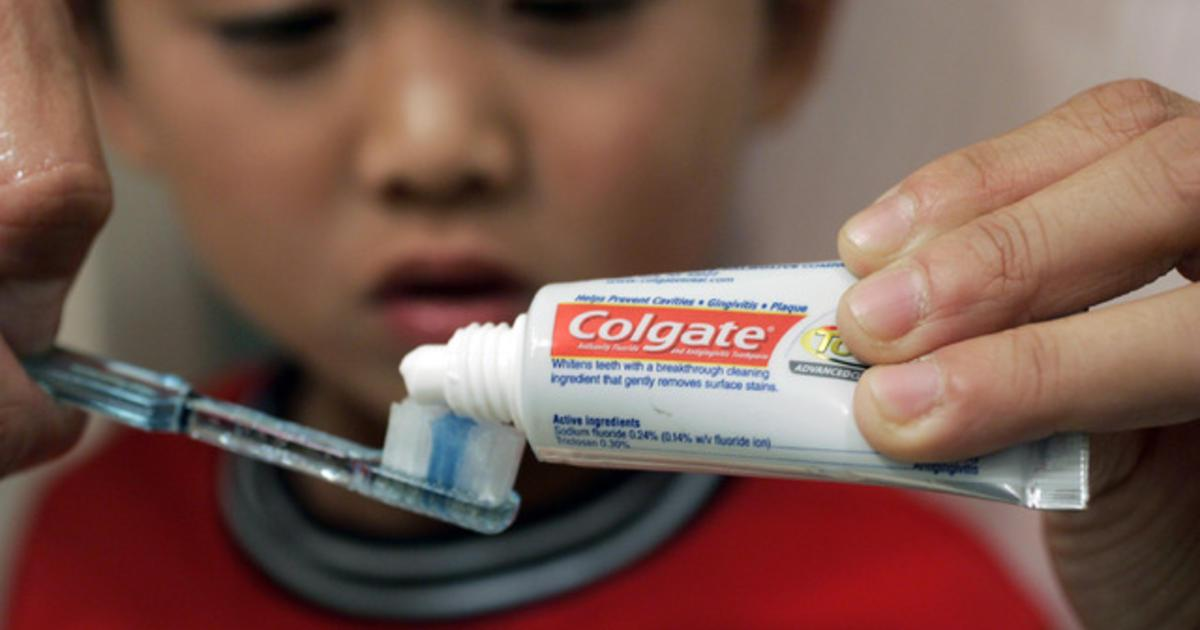toothpaste: (377, 212, 1133, 518)
